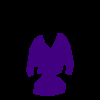maglione: (26, 32, 74, 96)
